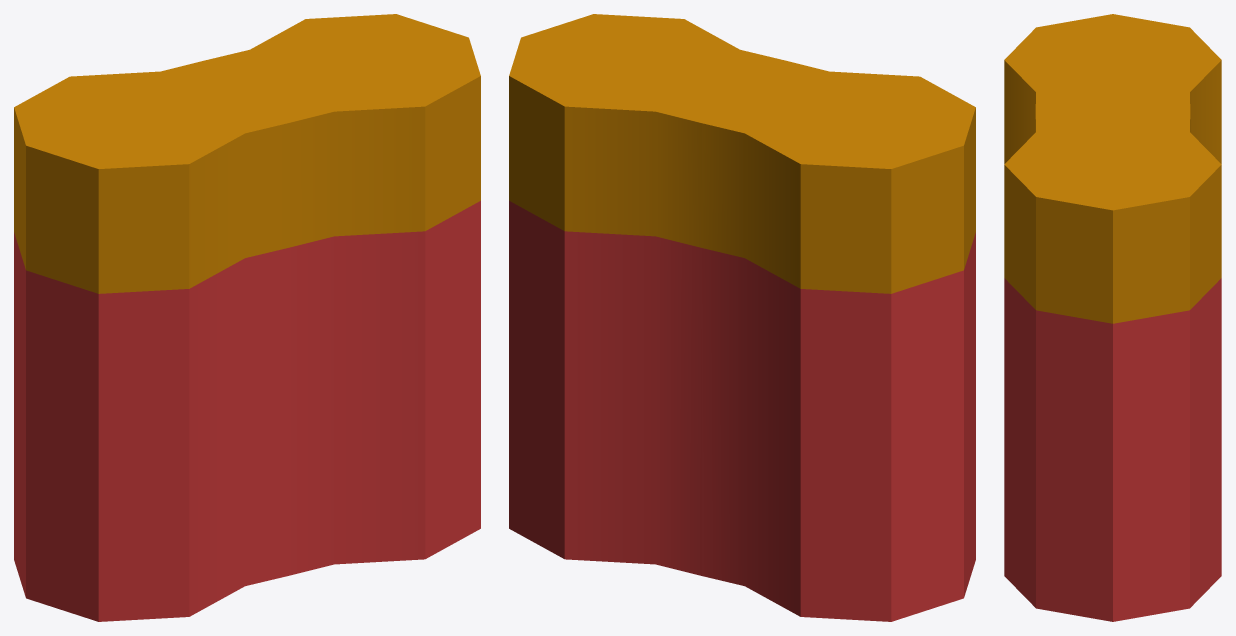
Rendered from battery_3V.fbx.
3 views of the same model, side by side, from view 1: azimuth 30°, elevation 25°; view 2: azimuth 150°, elevation 25°; view 3: azimuth 270°, elevation 25° (orthographic). The views are drawn at different scales.
Visible parts, largest first — view 1: 3_volt_battery; view 2: 3_volt_battery; view 3: 3_volt_battery.
Boxes of the visible parts, x1,y1,x2,y2 form: 3_volt_battery: (14, 14, 480, 621); 3_volt_battery: (509, 14, 975, 621); 3_volt_battery: (1004, 14, 1221, 621).
Size of the model in its own units: 16.59 by 16.2 by 7.76.
